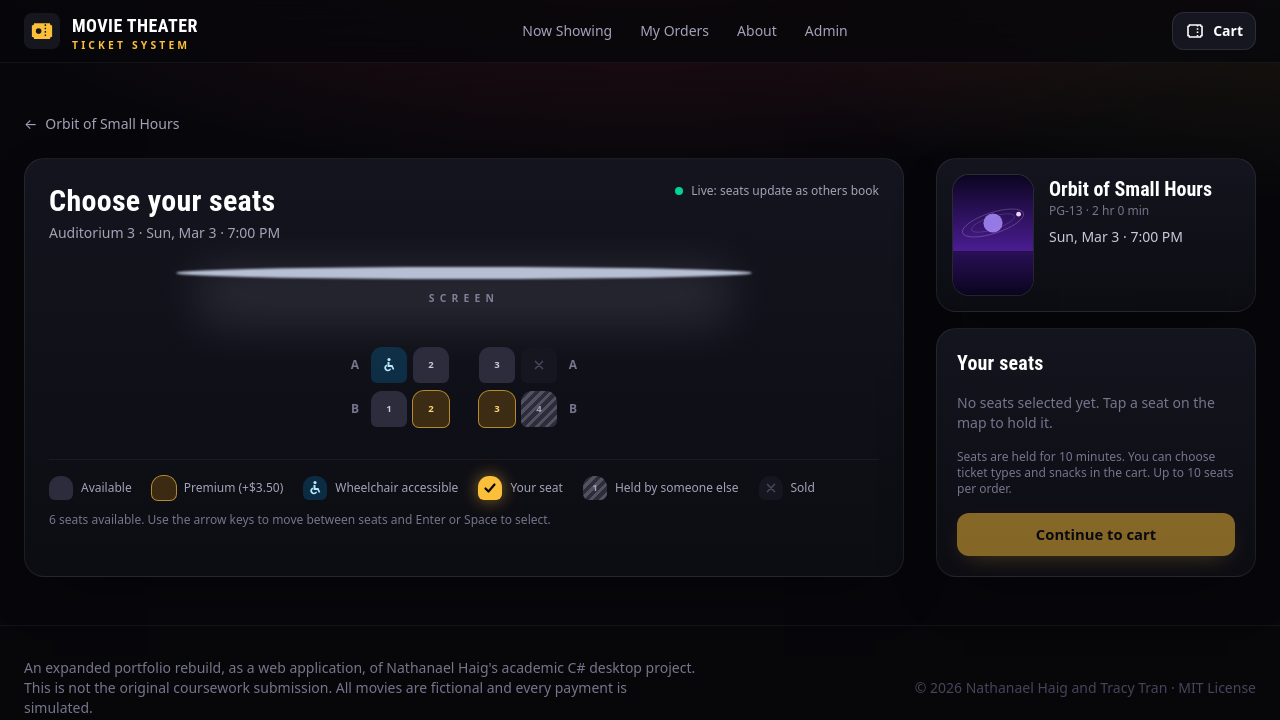
Test: SeatSelectionPage › explains a conflict when someone else got the seat first
Click the button named "Row A seat 3, available". click: point(497, 365)
box: [479,347,515,383]
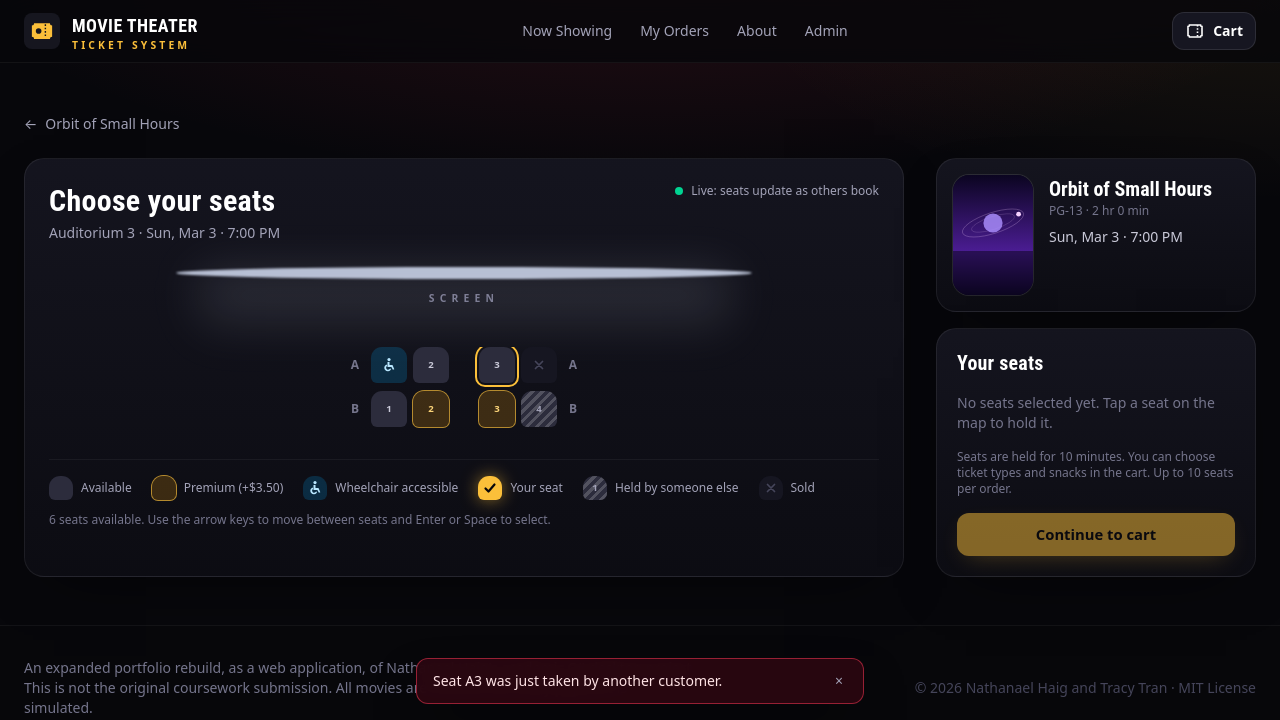
Expected: the text "Seat A3 was just taken by another customer." is shown, [433,671,722,690]
